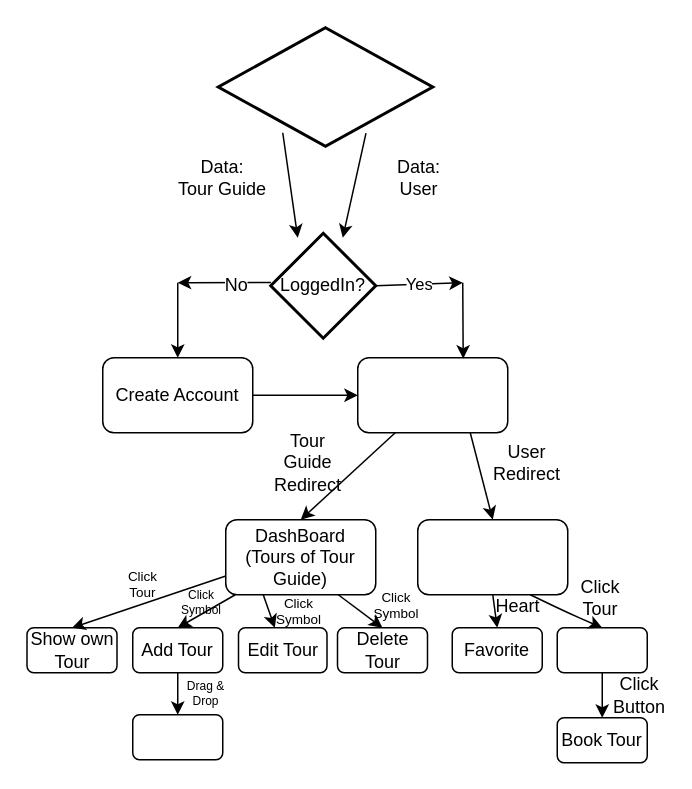
The diagram is 692 pixels wide and 789 high, and some of its shapes have lost their labels. The box of each missing label's shape, as (x1, y1, x2, y2) in pixels:
Explore Tours: (416, 518, 568, 595)
Login: (356, 356, 508, 433)
Tour Details: (556, 626, 647, 673)
Upload Photo: (131, 713, 223, 760)
What are you looking for? (Offer a tour/Take a tour): (216, 26, 434, 147)
